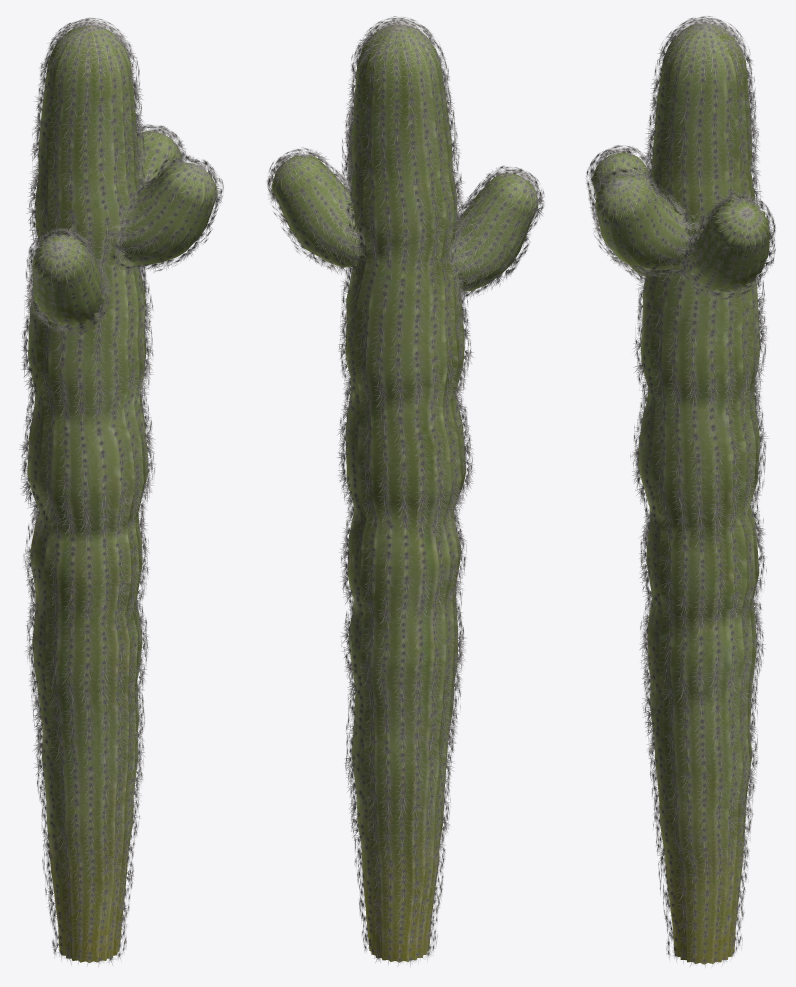
Rendered from saguaro0.glb.
The picture shows the model from 3 angles, left to right: view 1: azimuth 30°, elevation 25°; view 2: azimuth 150°, elevation 25°; view 3: azimuth 270°, elevation 25°; orthographic projection.
Visible parts, largest first — view 1: Carnegiea_gigantea_HD_Carnegiea bark 04_0, Carnegiea_gigantea_HD_Cactus spines 01_0, Carnegiea_gigantea_HD_Carnegiea bark 05_0; view 2: Carnegiea_gigantea_HD_Carnegiea bark 04_0, Carnegiea_gigantea_HD_Cactus spines 01_0, Carnegiea_gigantea_HD_Carnegiea bark 05_0; view 3: Carnegiea_gigantea_HD_Carnegiea bark 04_0, Carnegiea_gigantea_HD_Cactus spines 01_0, Carnegiea_gigantea_HD_Carnegiea bark 05_0.
Boxes of the visible parts, x1,y1,x2,y2 form: Carnegiea_gigantea_HD_Carnegiea bark 04_0: (27,25,148,962); Carnegiea_gigantea_HD_Cactus spines 01_0: (19,17,223,967); Carnegiea_gigantea_HD_Carnegiea bark 05_0: (32,130,217,327); Carnegiea_gigantea_HD_Carnegiea bark 04_0: (345,24,466,962); Carnegiea_gigantea_HD_Cactus spines 01_0: (266,16,544,967); Carnegiea_gigantea_HD_Carnegiea bark 05_0: (271,121,538,291); Carnegiea_gigantea_HD_Carnegiea bark 04_0: (638,23,760,964); Carnegiea_gigantea_HD_Cactus spines 01_0: (585,16,775,967); Carnegiea_gigantea_HD_Carnegiea bark 05_0: (592,152,769,292).
Size of the model in its own units: 0.7173 by 2.9 by 0.5599.
Materials: 3 (3 with a texture image).
